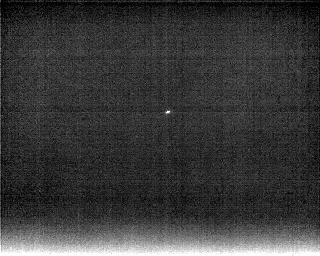BIRD: (163, 107, 173, 117)
